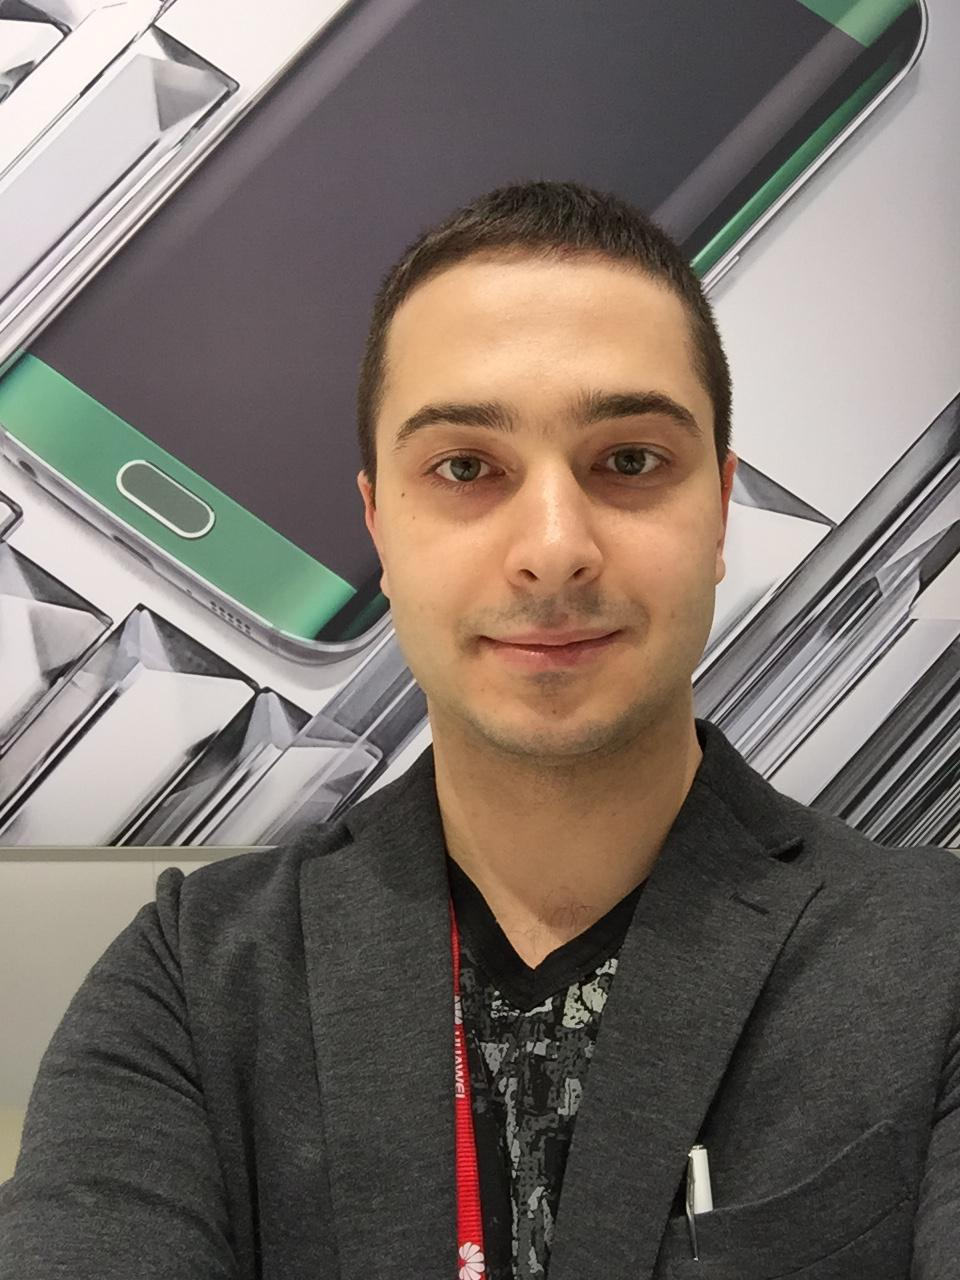face: (382, 256, 712, 761)
